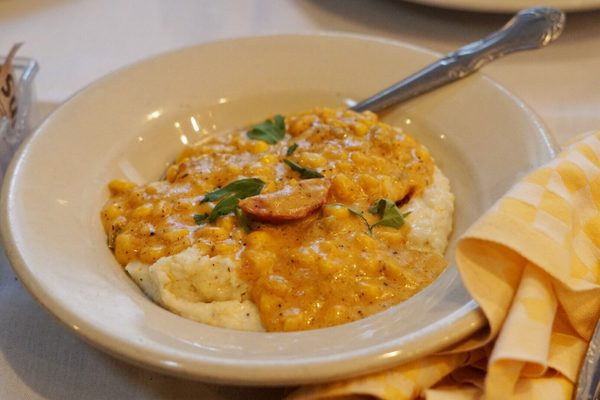salad: (345, 5, 567, 112)
sushi: (1, 25, 552, 388)
